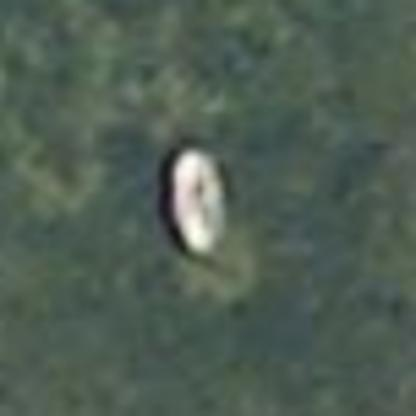ship: (146, 131, 246, 268)
